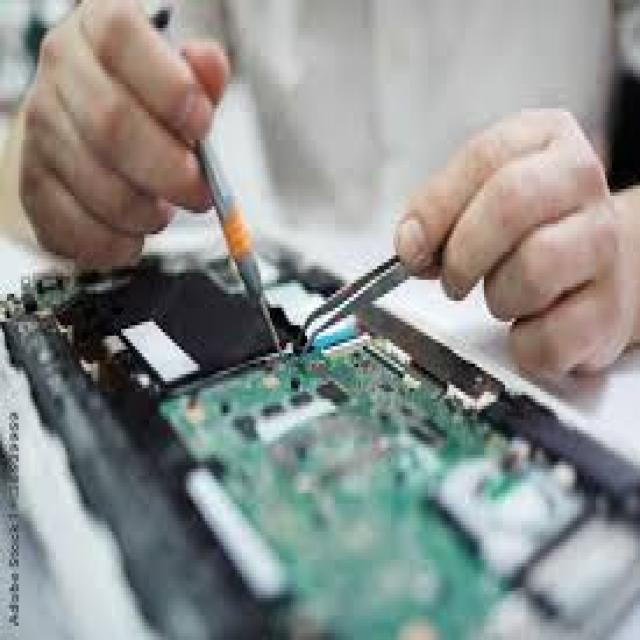screwdriver: (150, 2, 296, 369)
